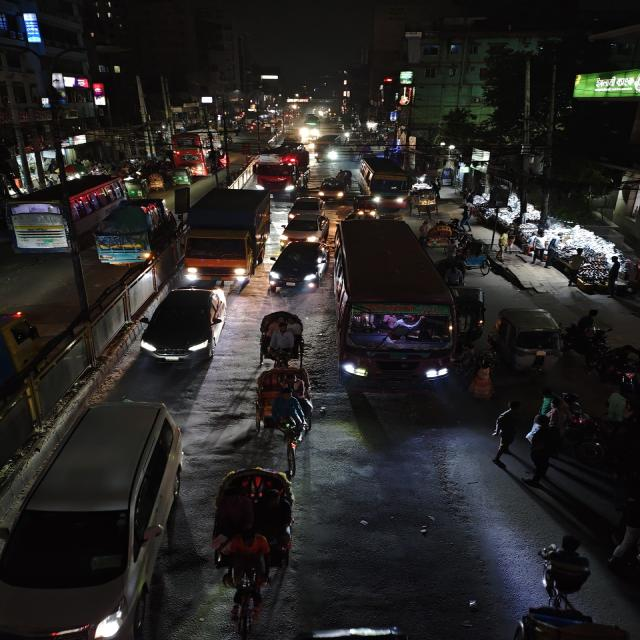bus: (332, 217, 458, 397), (4, 172, 129, 254), (359, 156, 414, 209), (167, 132, 216, 170)
car: (0, 400, 187, 640), (138, 280, 232, 367), (268, 240, 328, 296), (279, 214, 330, 241), (286, 197, 327, 221), (316, 178, 346, 203)
cng: (492, 305, 566, 373), (352, 194, 378, 218), (170, 168, 192, 186)
motorcycle: (560, 411, 615, 463)
pedestrian: (610, 494, 640, 576), (489, 398, 524, 464), (524, 421, 558, 483), (608, 261, 635, 300), (603, 389, 630, 425), (538, 387, 557, 417)
pickup_van: (92, 201, 160, 267)
rickshaw: (202, 464, 302, 638), (251, 364, 315, 478), (244, 306, 307, 370), (459, 243, 493, 277), (466, 365, 496, 403), (426, 222, 456, 252)
truck: (183, 187, 273, 285), (506, 602, 638, 640), (253, 142, 301, 195)
